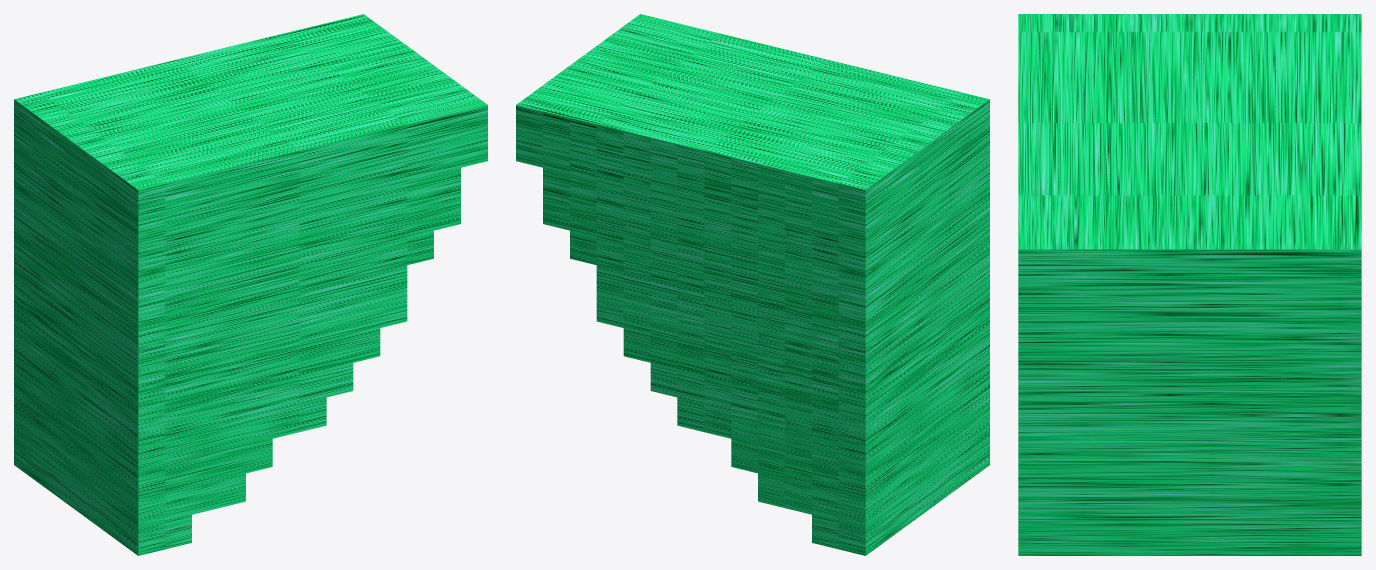
Rendered from tier1_piece_22.obj.
The picture shows the model from 3 angles, left to right: view 1: azimuth 30°, elevation 25°; view 2: azimuth 150°, elevation 25°; view 3: azimuth 270°, elevation 25°; orthographic projection. The views are drawn at different scales.
Parts seen in each view (by area): view 1: tier1_piece_22; view 2: tier1_piece_22; view 3: tier1_piece_22.
Boxes of the visible parts, <box> form: tier1_piece_22: <box>14,14,487,555</box>; tier1_piece_22: <box>516,14,989,555</box>; tier1_piece_22: <box>1018,14,1361,555</box>.
Bounding box in the file's own units: 0.8125 × 0.8125 × 0.5.
